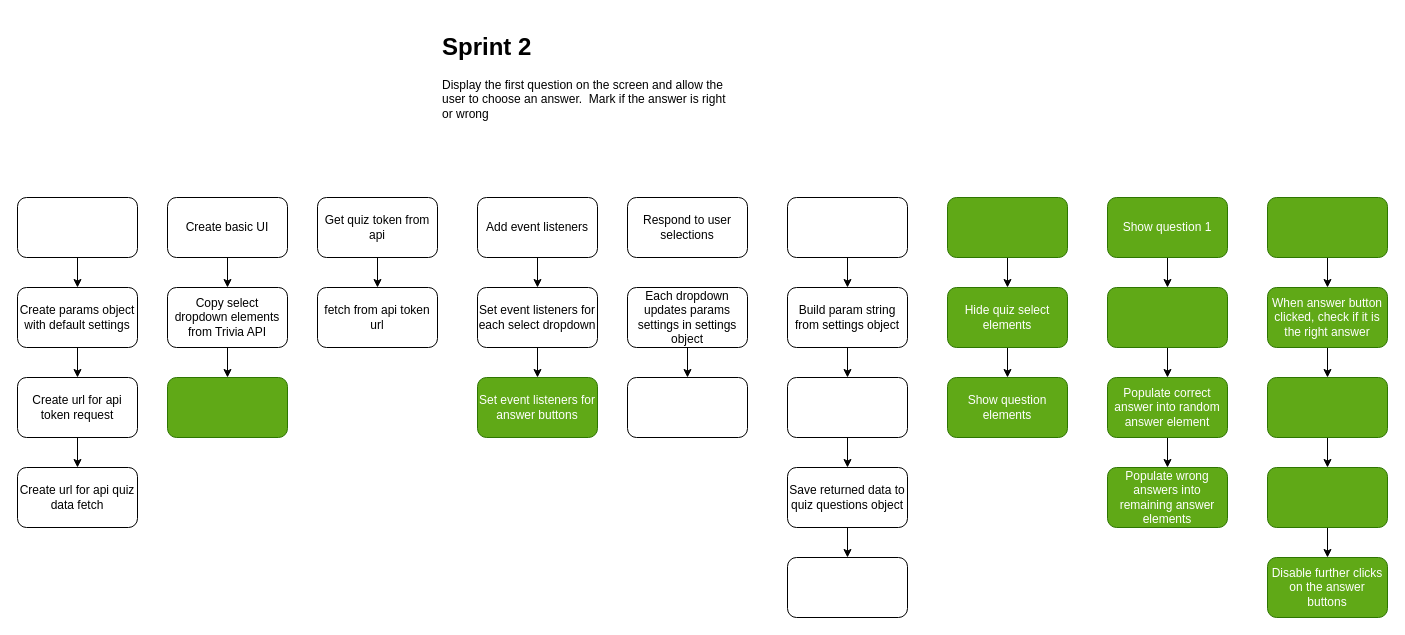
This 1405x635 diagram has some shape labels left out. The centre of each missing label's shape, as x and y in pixels:
"Fetch data from api" goes at point (847, 227).
"Fetch from url using param string" goes at point (847, 407).
"Get answer 1" goes at point (1327, 227).
"Hide question elements" goes at point (227, 407).
"If answer is wrong mark the provided answer red" goes at point (1327, 407).
"If selection is 'Any' remove param from settings object" goes at point (687, 407).
"Initialise variables" goes at point (77, 227).
"Log returned data" goes at point (847, 587).
"Mark the correct answer green" goes at point (1327, 497).
"Populate question fields" goes at point (1167, 317).
"Update UI" goes at point (1007, 227).
